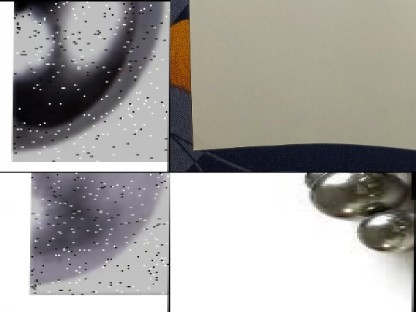ironball: (12, 0, 170, 160), (29, 171, 170, 293), (314, 171, 404, 228), (343, 209, 415, 253), (410, 171, 415, 198)
